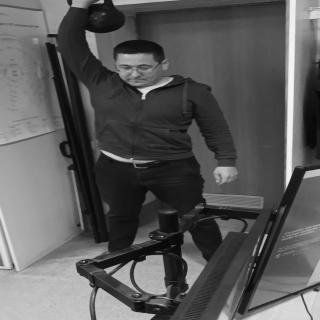girya: (67, 1, 126, 36)
